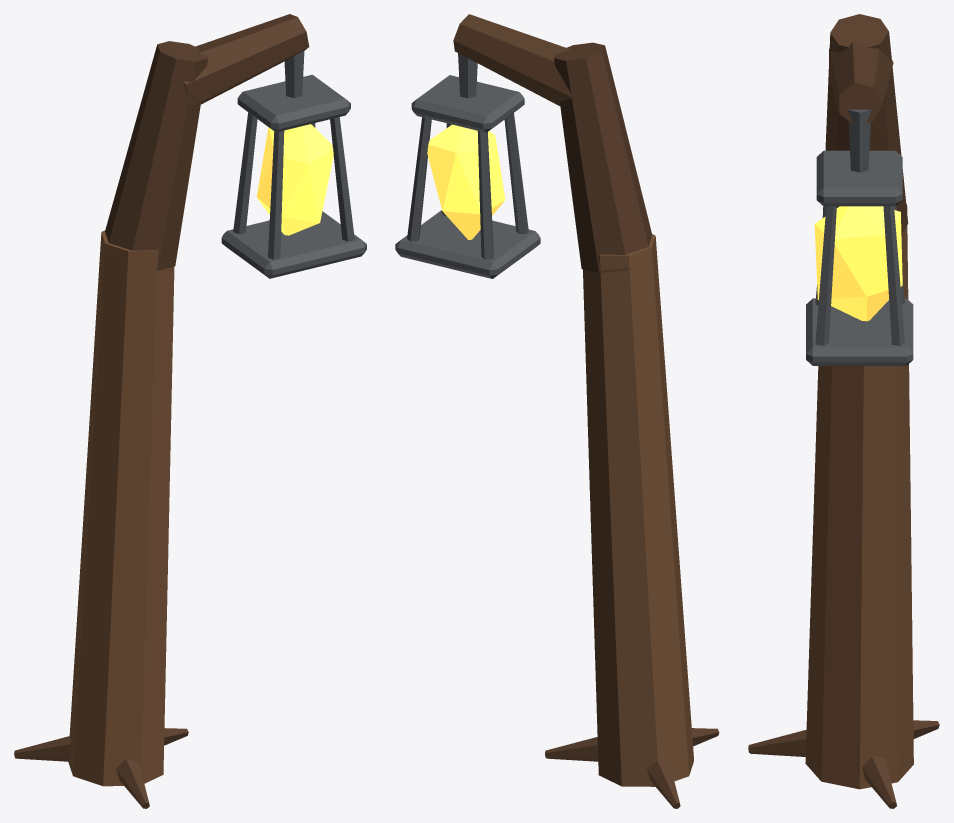
File: mesh_lantern_post_a.glb
3 views of the same model, side by side, from view 1: azimuth 30°, elevation 25°; view 2: azimuth 150°, elevation 25°; view 3: azimuth 270°, elevation 25° (orthographic). The views are drawn at different scales.
Visible parts, largest first — view 1: mesh_lantern_post_a__bark_mid, mesh_lantern_post_a__bark_dark, mesh_lantern_post_a__iron, mesh_lantern_post_a__lantern_amber; view 2: mesh_lantern_post_a__bark_mid, mesh_lantern_post_a__bark_dark, mesh_lantern_post_a__iron, mesh_lantern_post_a__lantern_amber; view 3: mesh_lantern_post_a__bark_mid, mesh_lantern_post_a__iron, mesh_lantern_post_a__bark_dark, mesh_lantern_post_a__lantern_amber.
Part boxes in pixels (box(x1,y1,x2,y2)): mesh_lantern_post_a__bark_mid: box(68, 230, 174, 786); mesh_lantern_post_a__bark_dark: box(14, 14, 309, 808); mesh_lantern_post_a__iron: box(221, 51, 366, 278); mesh_lantern_post_a__lantern_amber: box(256, 124, 333, 235); mesh_lantern_post_a__bark_mid: box(583, 234, 693, 786); mesh_lantern_post_a__bark_dark: box(453, 14, 719, 808); mesh_lantern_post_a__iron: box(395, 53, 540, 278); mesh_lantern_post_a__lantern_amber: box(427, 124, 505, 239); mesh_lantern_post_a__bark_mid: box(805, 204, 913, 789); mesh_lantern_post_a__iron: box(806, 109, 913, 365); mesh_lantern_post_a__bark_dark: box(748, 14, 939, 808); mesh_lantern_post_a__lantern_amber: box(814, 206, 902, 321).
Bounding box in the file's own units: 3.59 × 8.21 × 1.83.
